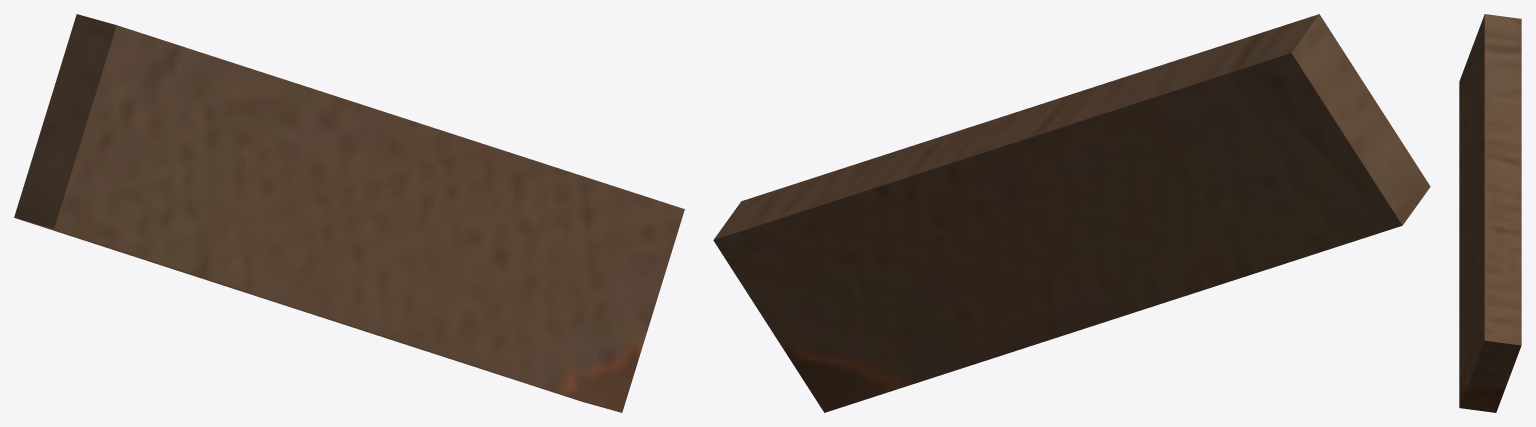
Rendered from fan_center__blade_3.glb.
3 views of the same model, side by side, from view 1: azimuth 30°, elevation 25°; view 2: azimuth 150°, elevation 25°; view 3: azimuth 270°, elevation 25° (orthographic). The views are drawn at different scales.
Visible parts, largest first — view 1: geometry_0; view 2: geometry_0; view 3: geometry_0.
Boxes of the visible parts, <box> form: geometry_0: <box>14,14,684,412</box>; geometry_0: <box>713,14,1430,412</box>; geometry_0: <box>1459,14,1521,412</box>.
Size of the model in its own units: 0.0286 by 0.0207 by 0.00428.
1 material, 1 textured.
